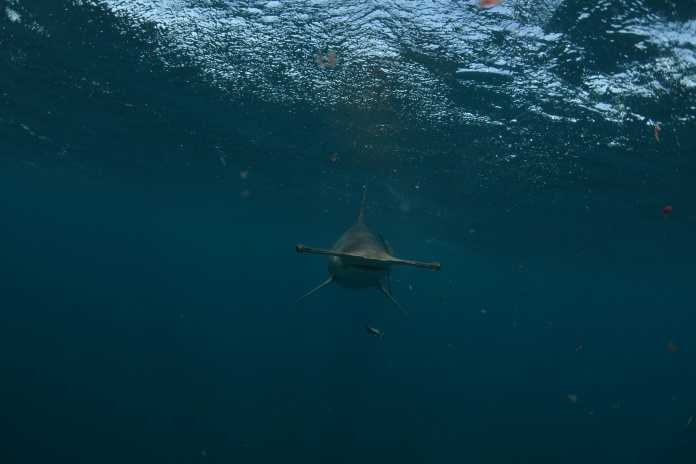Hammer: (273, 192, 469, 345)
